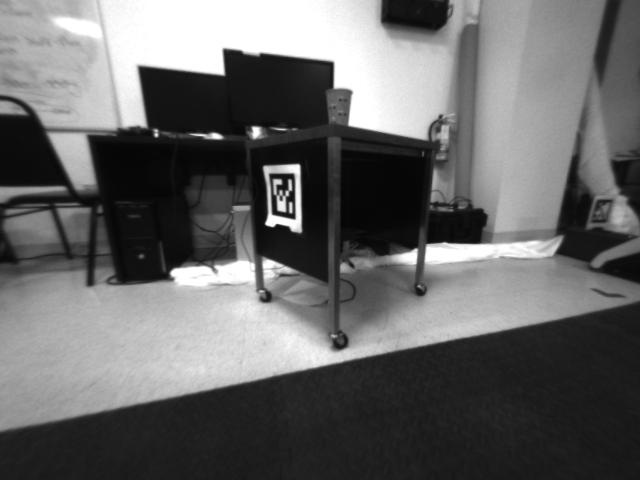coffee_cup: (323, 86, 354, 125)
